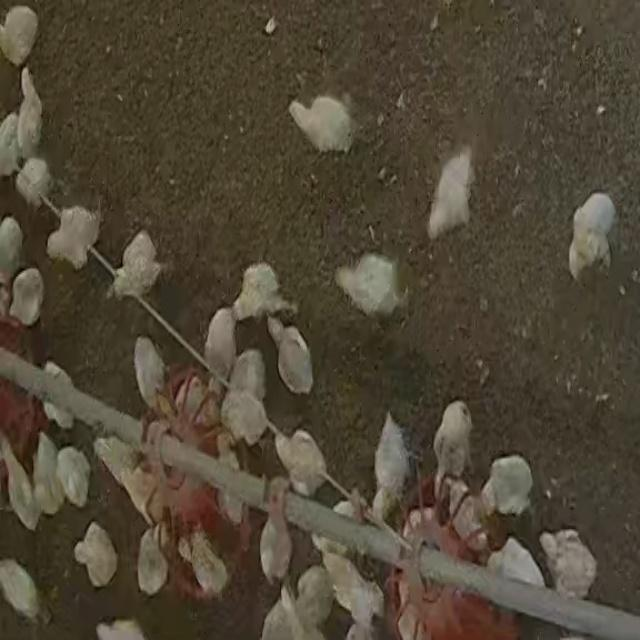chicken: (318, 546, 381, 629), (219, 348, 270, 448), (333, 252, 407, 320), (371, 407, 415, 521), (568, 193, 618, 282), (537, 528, 597, 601), (272, 427, 330, 500), (428, 148, 475, 238), (231, 262, 297, 324), (175, 527, 230, 600), (285, 94, 356, 150), (110, 235, 168, 302), (43, 204, 101, 270), (266, 317, 313, 398), (431, 401, 473, 490), (94, 433, 148, 502), (479, 454, 533, 520), (263, 589, 326, 638), (0, 556, 45, 624), (73, 521, 116, 590), (40, 361, 81, 430), (133, 334, 167, 415), (204, 307, 238, 384), (312, 502, 354, 564), (17, 68, 44, 162), (54, 444, 91, 509), (1, 5, 39, 66), (8, 267, 44, 328), (136, 528, 168, 596), (14, 157, 52, 208)
